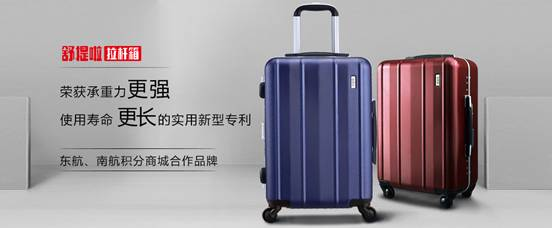luggage: (257, 4, 377, 226), (374, 53, 482, 207)
